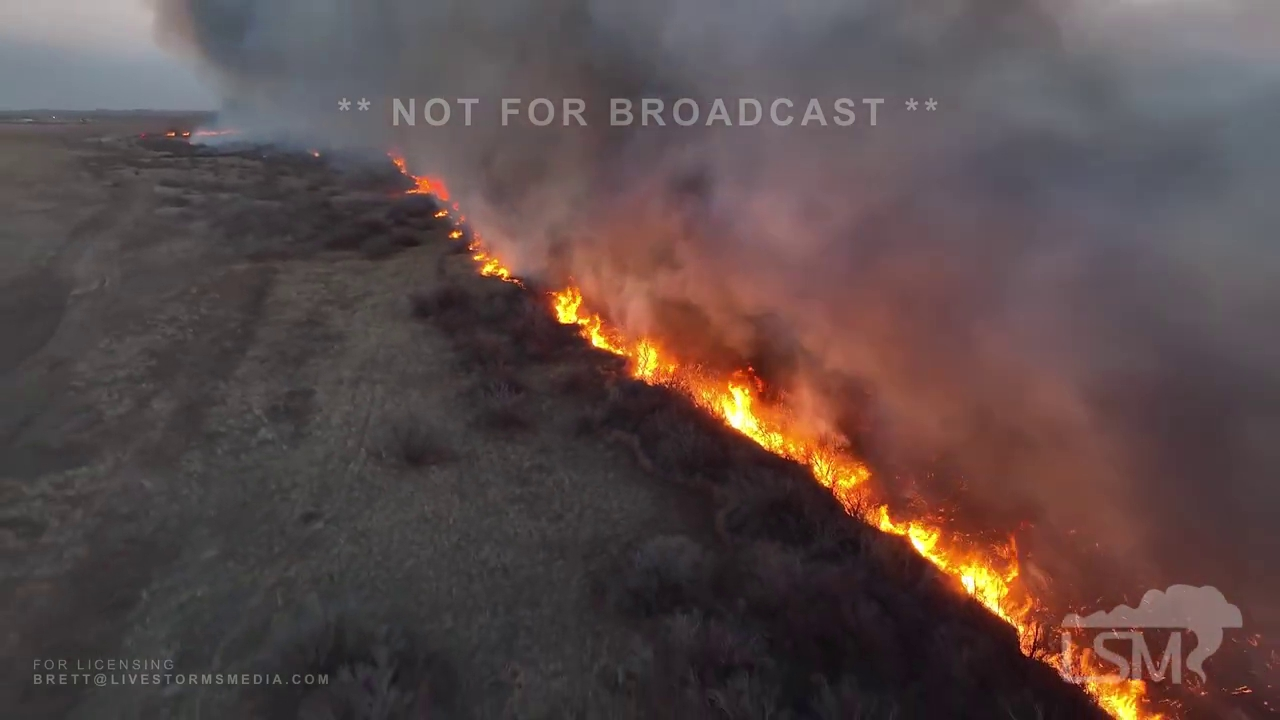forest_fire: (547, 283, 1041, 652), (1039, 652, 1165, 718), (449, 218, 520, 282), (392, 153, 447, 202), (438, 210, 449, 216)
